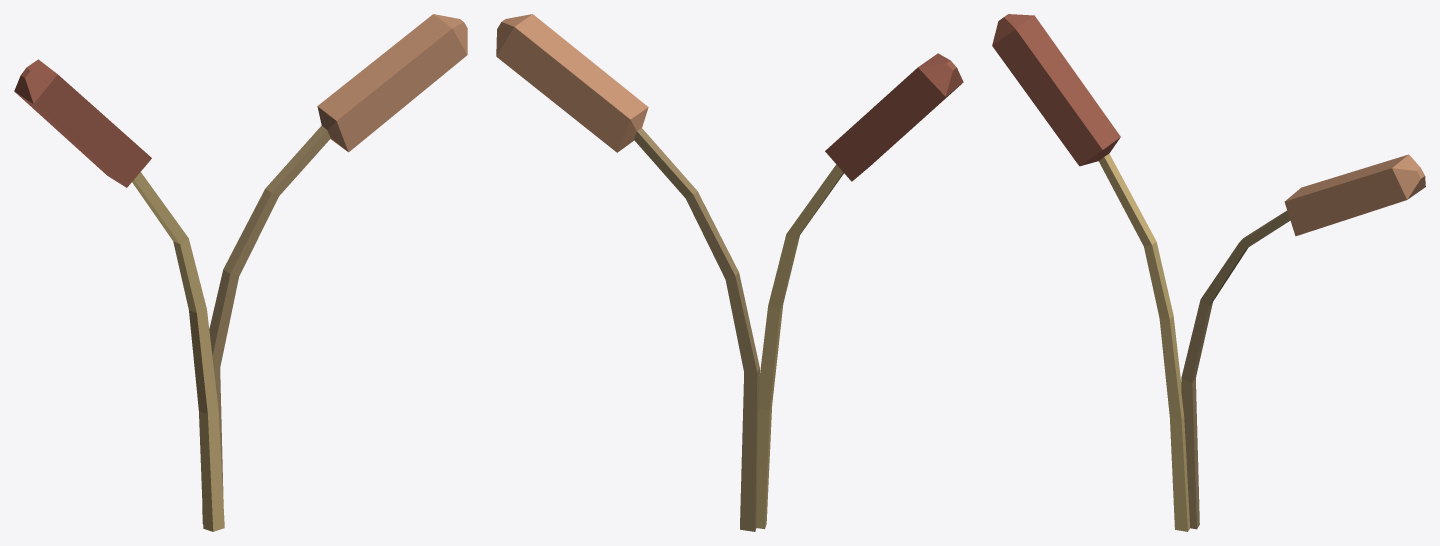
Rendered from EA03_Nature_SweetFlag_02d.glb.
The picture shows the model from 3 angles, left to right: view 1: azimuth 30°, elevation 25°; view 2: azimuth 150°, elevation 25°; view 3: azimuth 330°, elevation 25°; orthographic projection. The views are drawn at different scales.
Visible parts, largest first — view 1: EA03_Nature_SweetFlag_02d; view 2: EA03_Nature_SweetFlag_02d; view 3: EA03_Nature_SweetFlag_02d.
Boxes of the visible parts, x1,y1,x2,y2 form: EA03_Nature_SweetFlag_02d: (14, 14, 467, 531); EA03_Nature_SweetFlag_02d: (496, 14, 963, 531); EA03_Nature_SweetFlag_02d: (992, 14, 1425, 531).
Size of the model in its own units: 2.15 by 2.32 by 0.213.
1 material, 1 textured.
